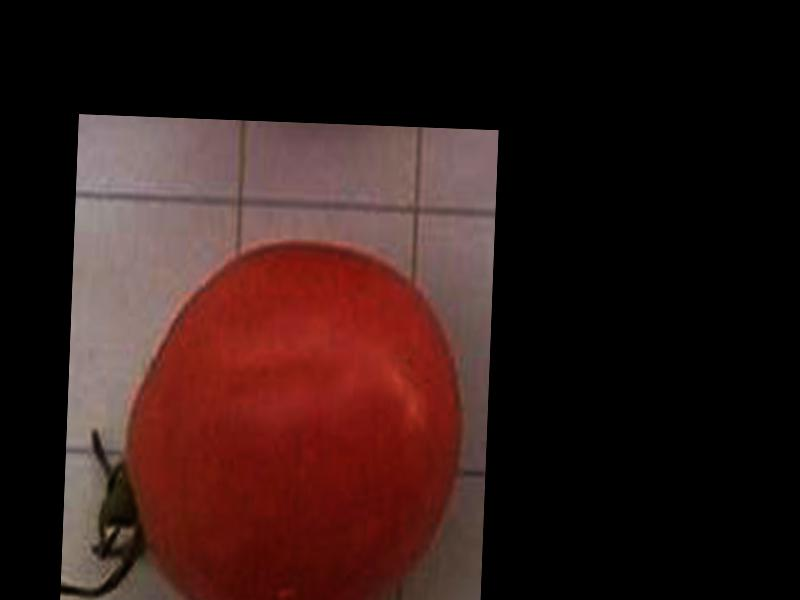Tomato: (118, 236, 468, 600)
